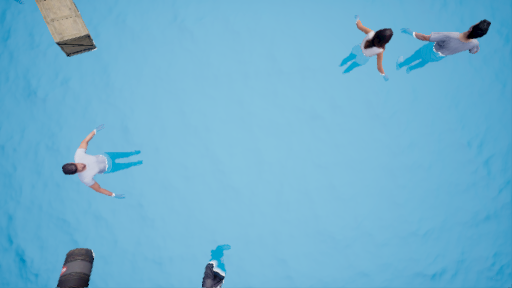person: (405, 20, 501, 87), (61, 126, 144, 194), (342, 13, 402, 95), (194, 248, 240, 281)
